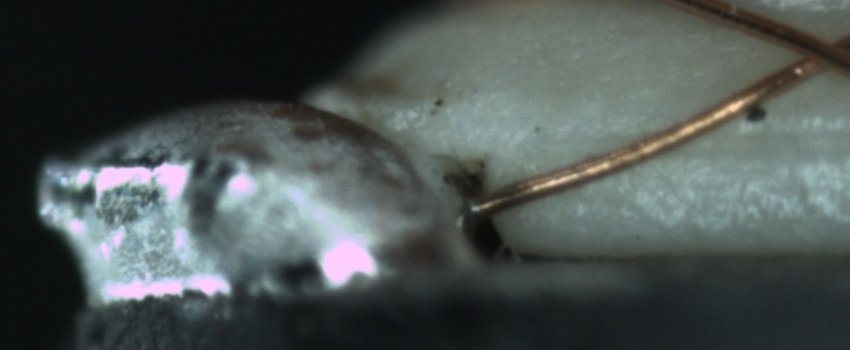CL: (775, 18, 848, 80)
DL: (559, 106, 845, 173)
